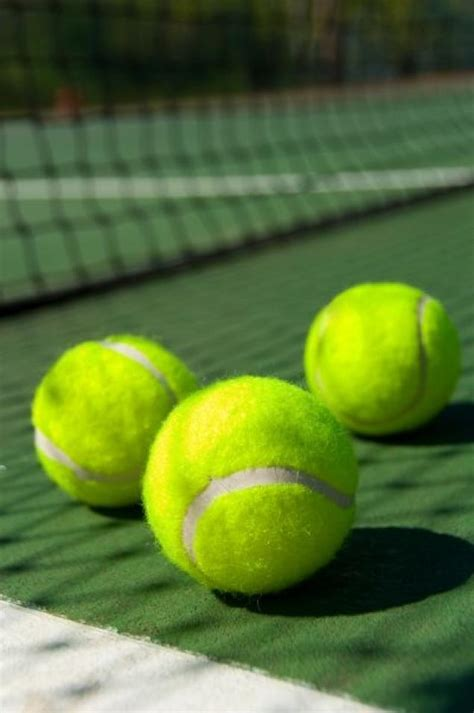tennis_ball: (136, 372, 359, 598), (29, 331, 203, 507), (302, 279, 462, 437)
